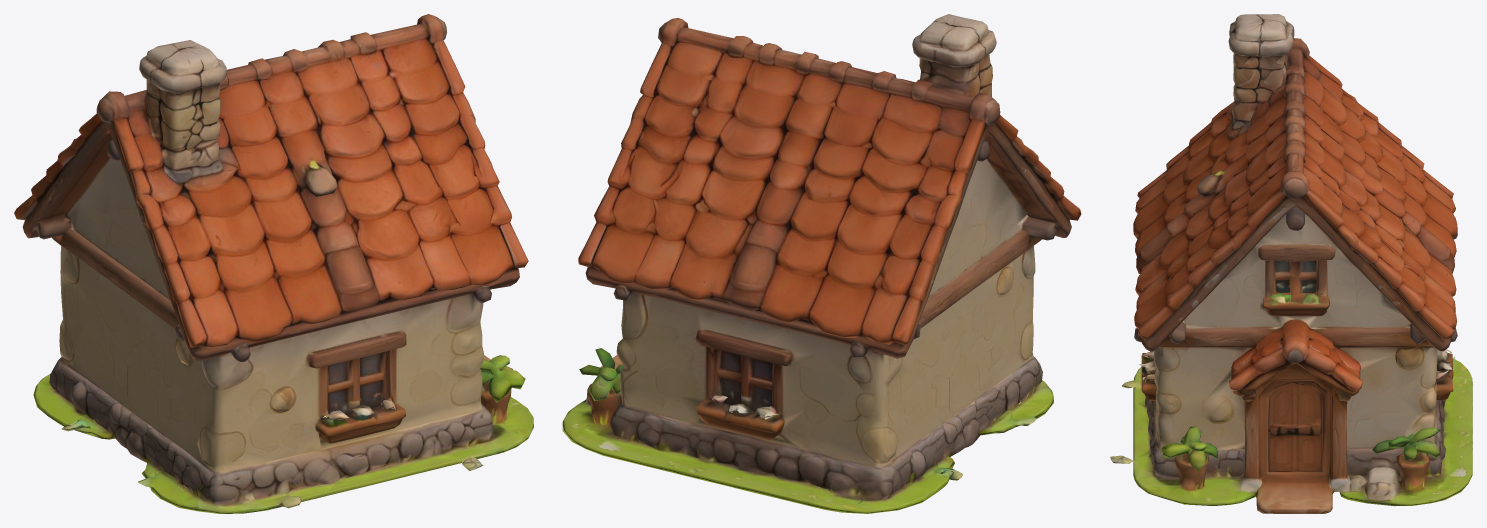
The picture shows the model from 3 angles, left to right: view 1: azimuth 30°, elevation 25°; view 2: azimuth 150°, elevation 25°; view 3: azimuth 270°, elevation 25°; orthographic projection. The views are drawn at different scales.
Visible parts, largest first — view 1: tripo_node_403ec20a-1206-411a-8f7d-e5fac1ac9b78; view 2: tripo_node_403ec20a-1206-411a-8f7d-e5fac1ac9b78; view 3: tripo_node_403ec20a-1206-411a-8f7d-e5fac1ac9b78.
Part boxes in pixels (left/top/right/bottom): tripo_node_403ec20a-1206-411a-8f7d-e5fac1ac9b78: left=14, top=14, right=533, bottom=513; tripo_node_403ec20a-1206-411a-8f7d-e5fac1ac9b78: left=562, top=14, right=1081, bottom=513; tripo_node_403ec20a-1206-411a-8f7d-e5fac1ac9b78: left=1110, top=14, right=1472, bottom=513.
Bounding box in the file's own units: 1 × 0.9997 × 0.9246.
Materials: 1 (1 with a texture image).
